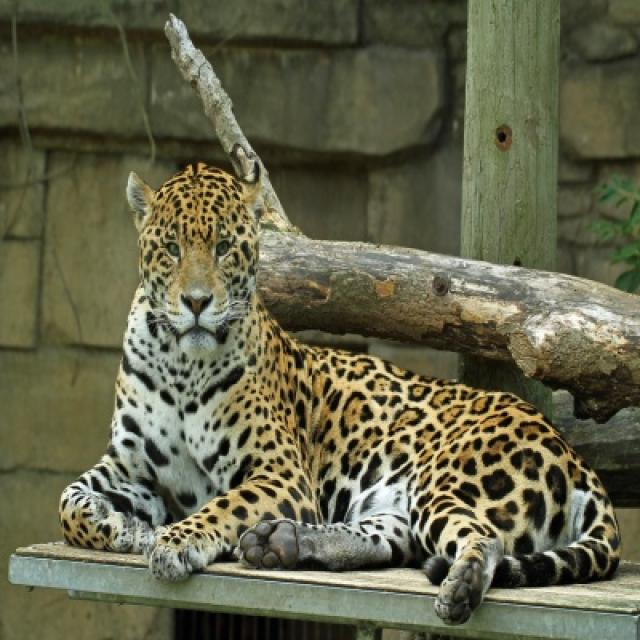Jaguar: (58, 162, 622, 627)
